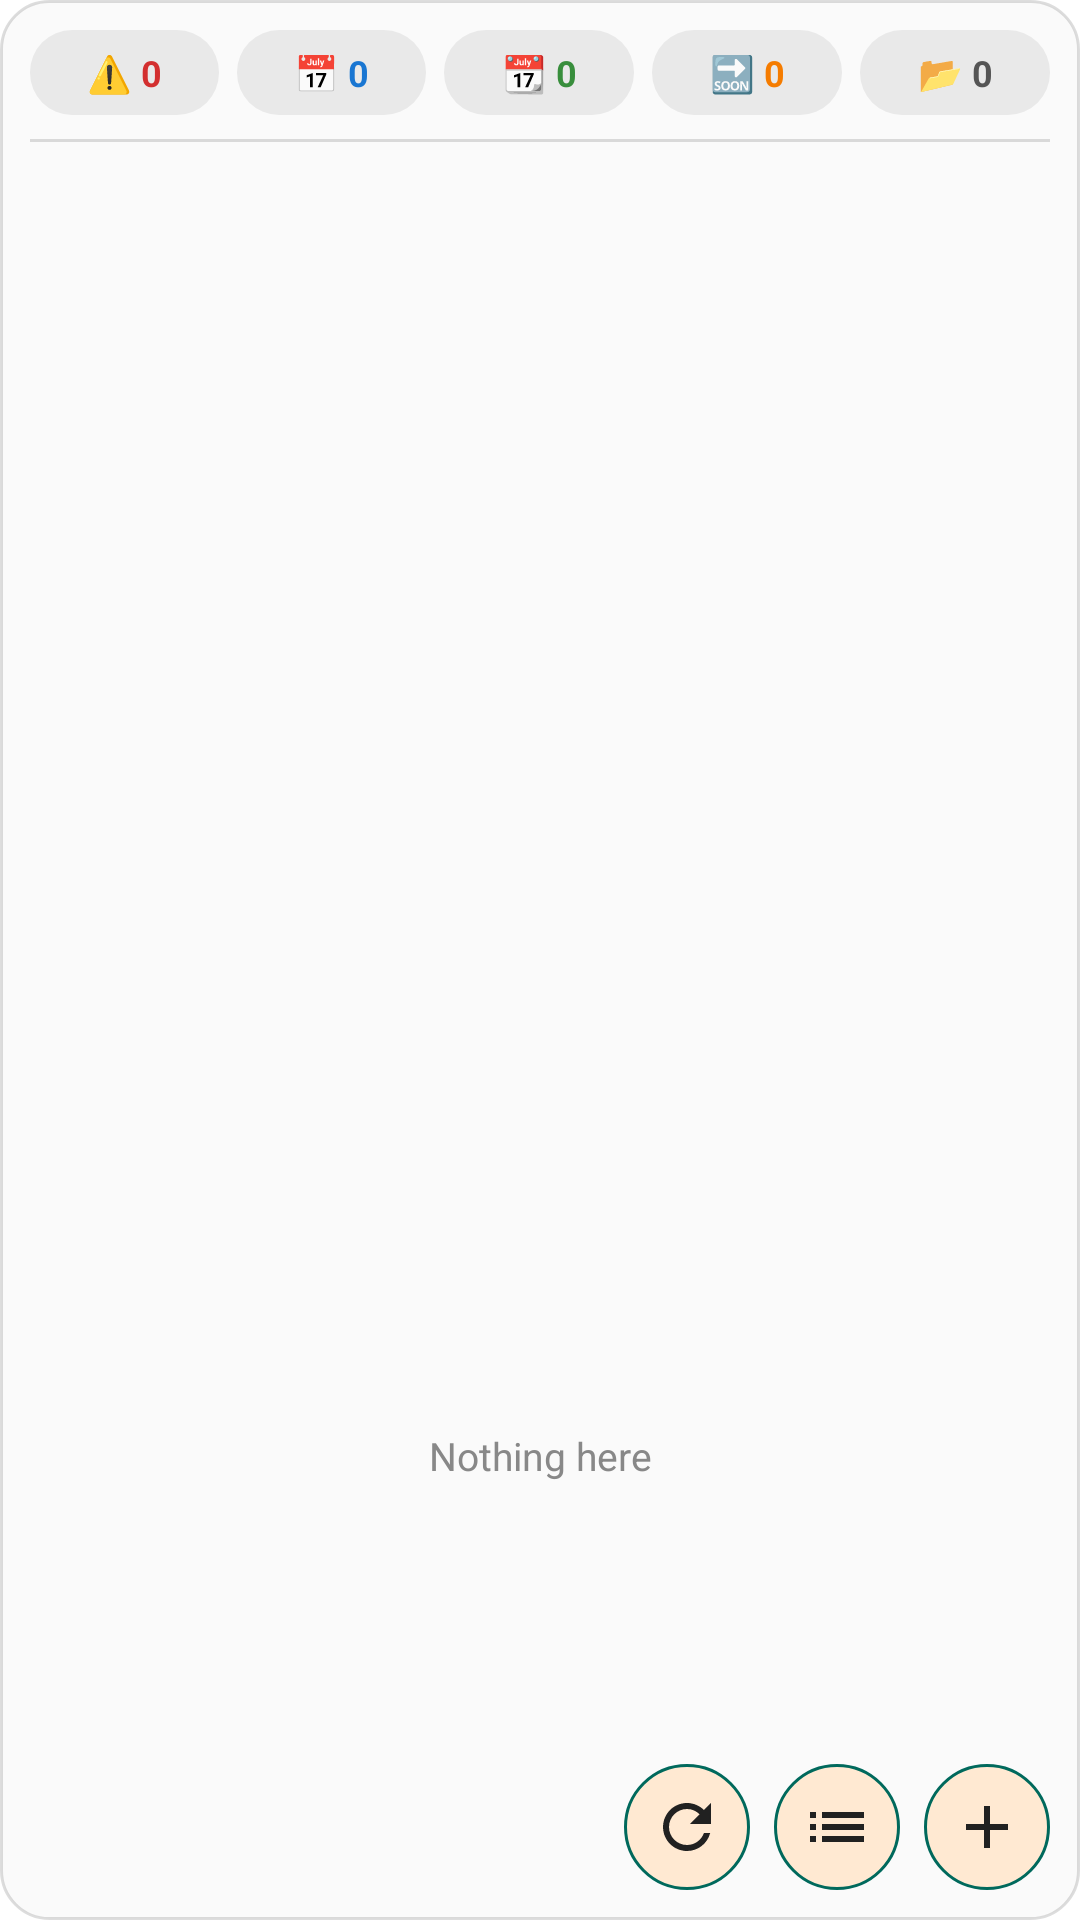

Where to tap for icons on this 1080px x 1920px app screen, as [x,y]:
Add to inbox: [987,1827]
Open agenda: [837,1827]
Refresh agenda: [687,1827]
